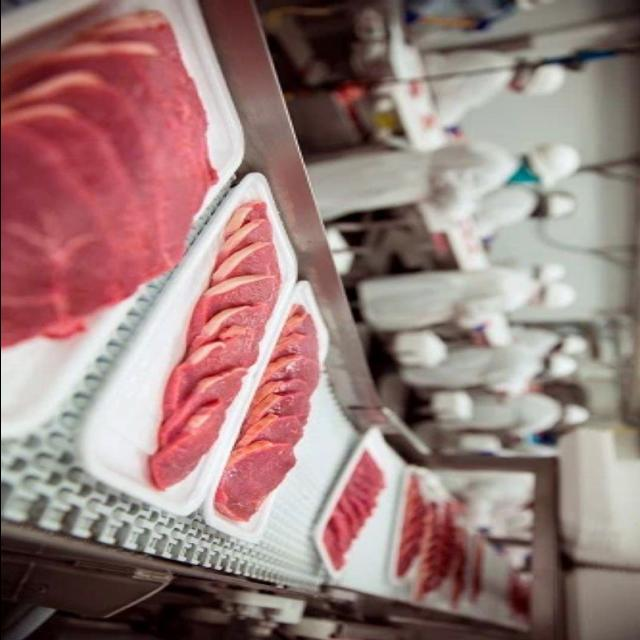food: (0, 0, 249, 362), (198, 280, 358, 540), (146, 198, 287, 492)
